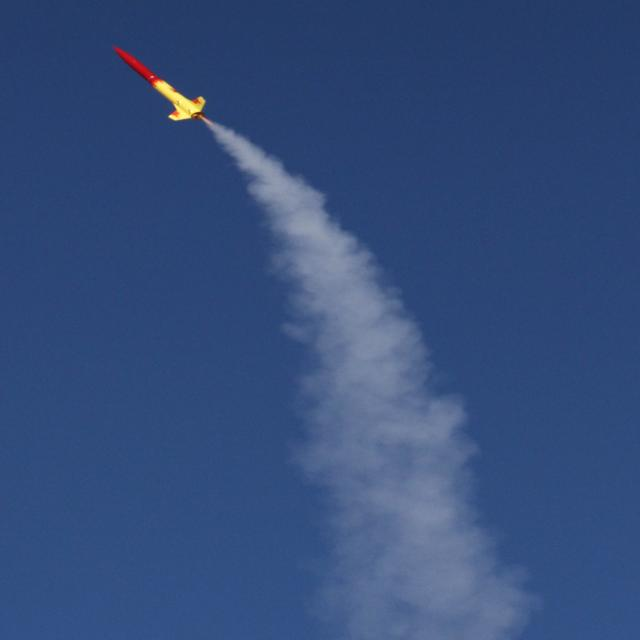Rocket: (109, 43, 208, 123)
